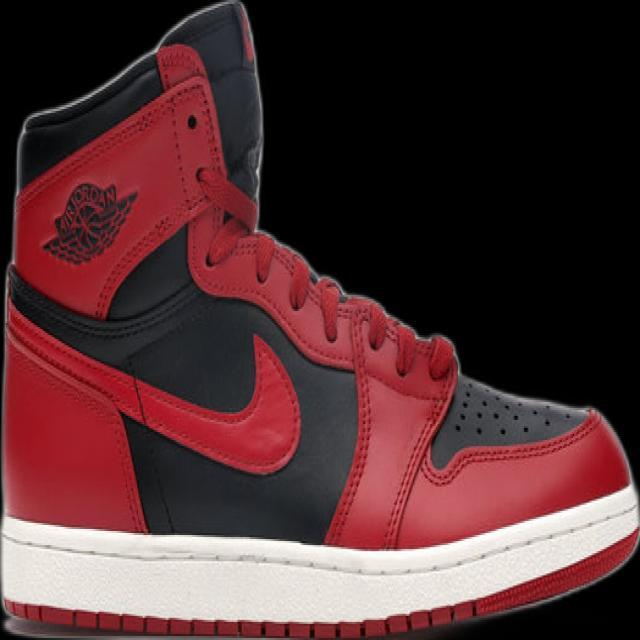J1_InsoleChar: (0, 0, 639, 639)
J1_ShoeLogo: (40, 179, 138, 266)
J1_StitchPattern: (0, 489, 639, 637), (305, 271, 584, 450), (2, 597, 489, 639), (447, 498, 639, 575), (448, 376, 582, 443), (453, 383, 528, 438), (310, 272, 347, 342), (452, 381, 474, 434)
